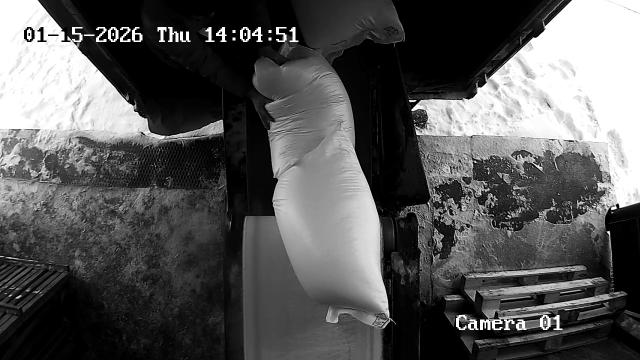bag: (273, 124, 390, 328), (253, 35, 355, 178), (295, 0, 405, 66)
